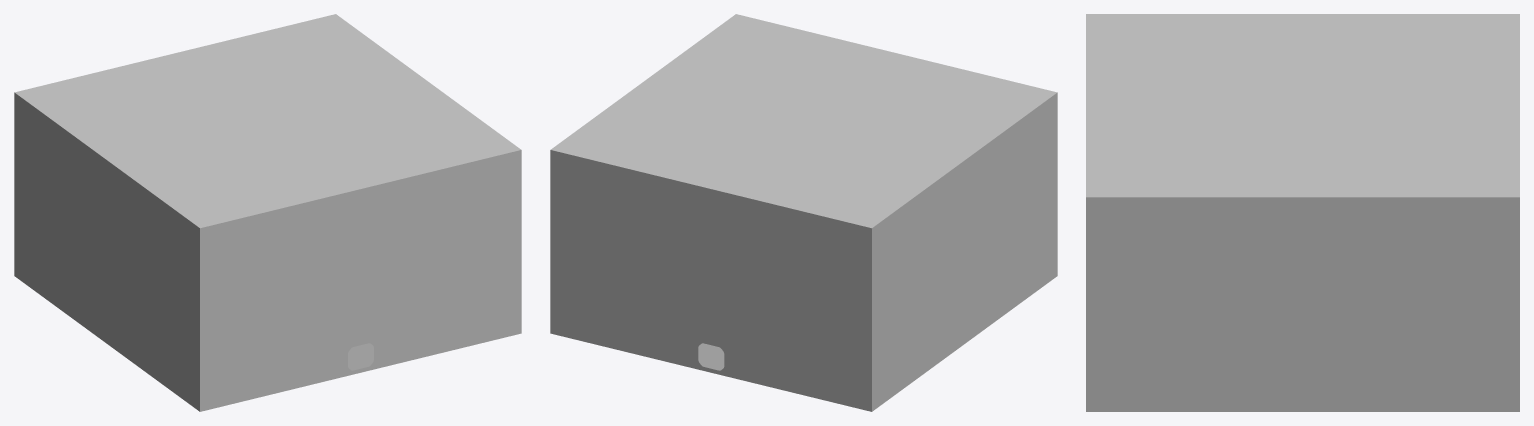
The model's file is big_room.fbx.
3 views of the same model, side by side, from view 1: azimuth 30°, elevation 25°; view 2: azimuth 150°, elevation 25°; view 3: azimuth 270°, elevation 25° (orthographic). The views are drawn at different scales.
Parts seen in each view (by area): view 1: 큐브.003; view 2: 큐브.003; view 3: 큐브.003.
Boxes of the visible parts, left/top/right/bottom form: 큐브.003: left=14, top=14, right=521, bottom=411; 큐브.003: left=550, top=14, right=1057, bottom=411; 큐브.003: left=1086, top=14, right=1519, bottom=411.
Bounding box in the file's own units: 1633 × 891 × 1633.
